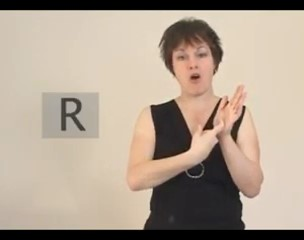R: (184, 80, 250, 165)
